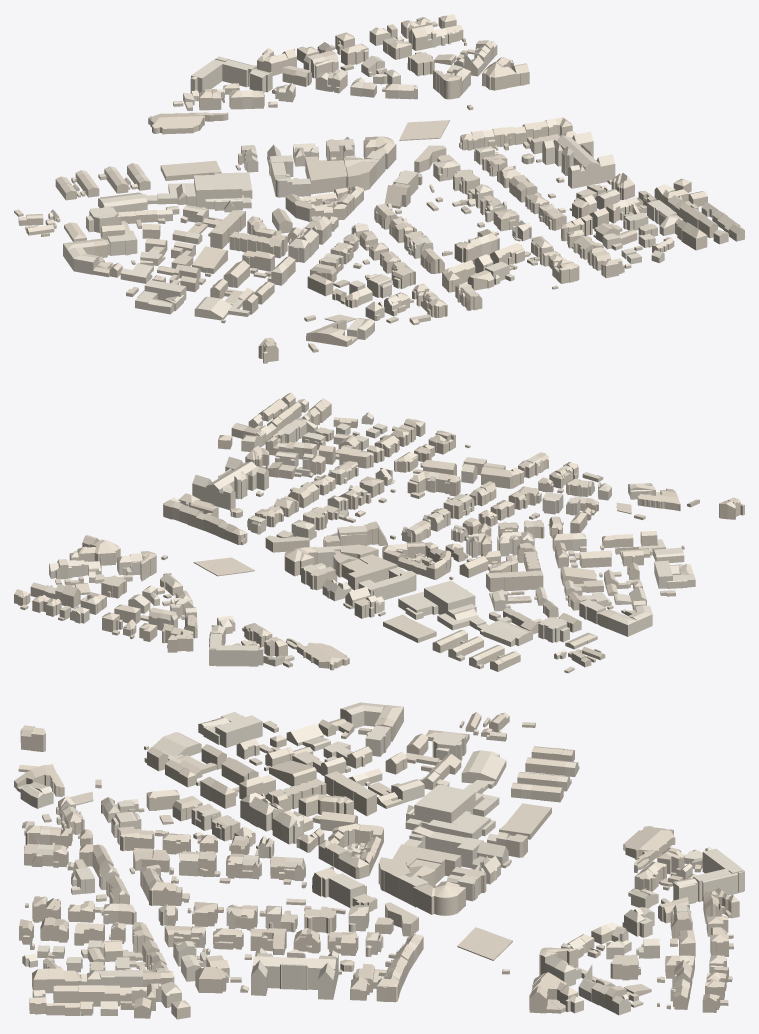
3 views of the same model, one above another, from view 1: azimuth 30°, elevation 25°; view 2: azimuth 150°, elevation 25°; view 3: azimuth 270°, elevation 25° (orthographic). The views are drawn at different scales.
Bounding box in the file's own units: 630 × 34.17 × 629.
